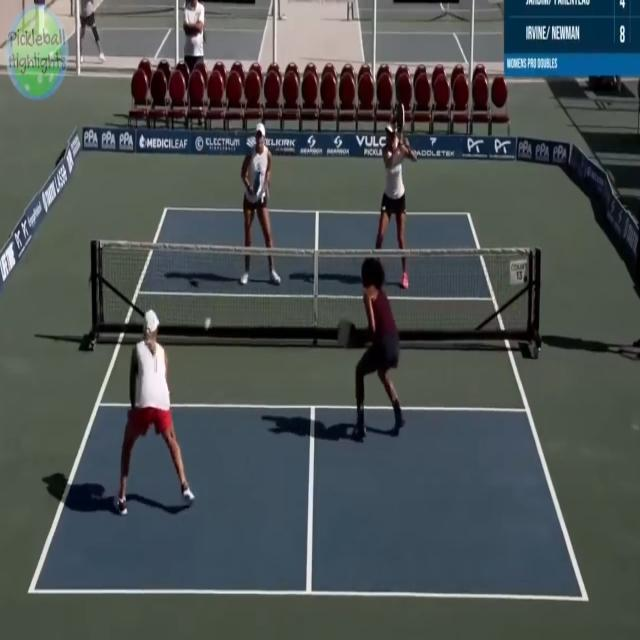Court: (33, 204, 585, 594)
ball: (200, 306, 221, 338)
